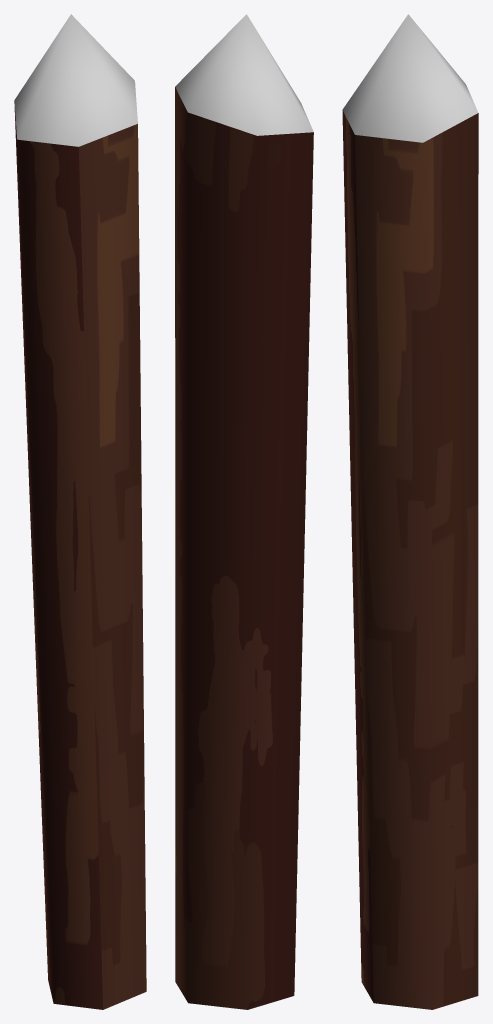
Rendered from SM_PROP_wall_wood_post_03.fbx.
3 views of the same model, side by side, from view 1: azimuth 30°, elevation 25°; view 2: azimuth 150°, elevation 25°; view 3: azimuth 330°, elevation 25° (orthographic). The views are drawn at different scales.
Parts seen in each view (by area): view 1: SM_PROP_wall_wood_post_03; view 2: SM_PROP_wall_wood_post_03; view 3: SM_PROP_wall_wood_post_03.
Part boxes in pixels (x1,y1,x2,y2): SM_PROP_wall_wood_post_03: (14, 14, 146, 1009); SM_PROP_wall_wood_post_03: (175, 14, 313, 1009); SM_PROP_wall_wood_post_03: (342, 14, 478, 1009).
Size of the model in its own units: 67.8 by 484 by 55.46.
